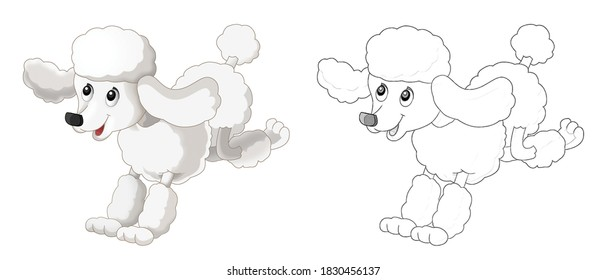dog: (8, 3, 308, 239), (309, 14, 596, 243)
